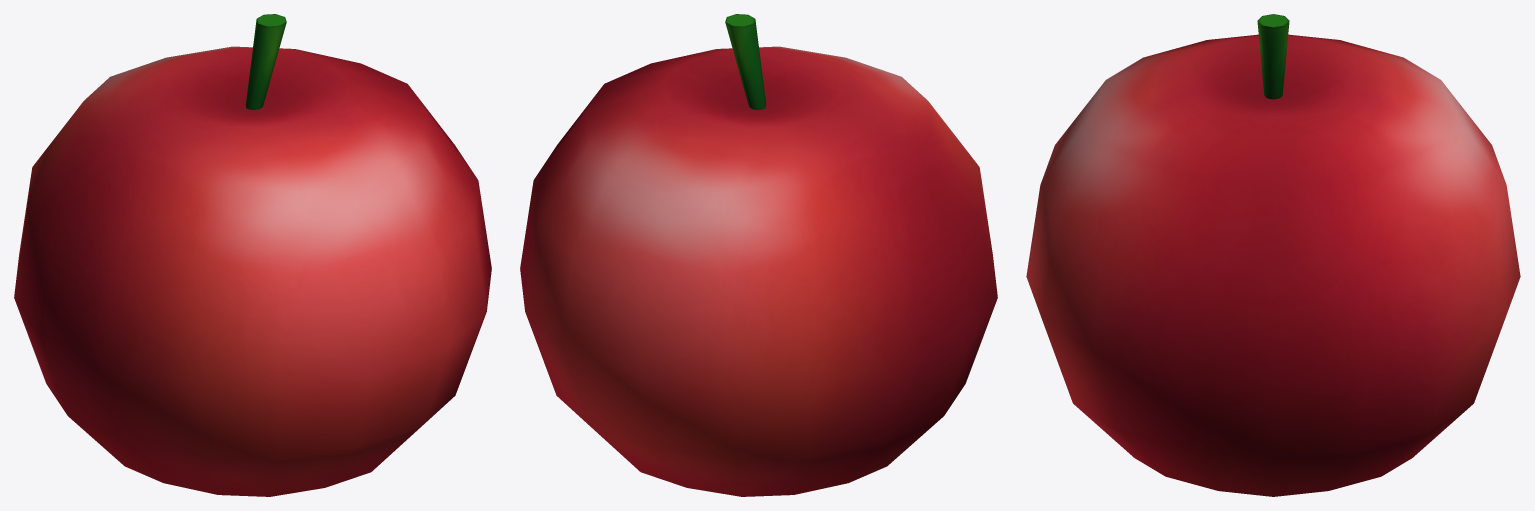
The model's file is Apple.FBX.
3 views of the same model, side by side, from view 1: azimuth 30°, elevation 25°; view 2: azimuth 150°, elevation 25°; view 3: azimuth 270°, elevation 25° (orthographic). The views are drawn at different scales.
Visible parts, largest first — view 1: Sphere001; view 2: Sphere001; view 3: Sphere001.
Boxes of the visible parts, x1,y1,x2,y2 form: Sphere001: (14, 14, 491, 496); Sphere001: (520, 14, 997, 496); Sphere001: (1026, 14, 1520, 496).
Bounding box in the file's own units: 73.03 × 70.09 × 71.15.
